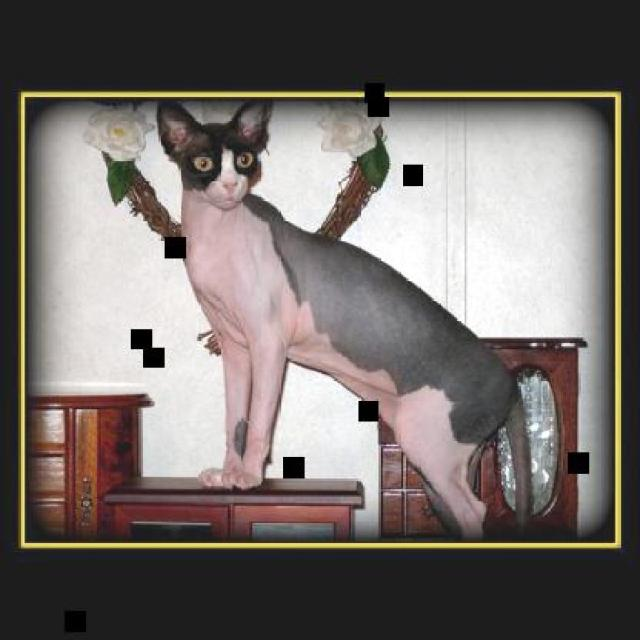unauthorized: (154, 97, 537, 540)
